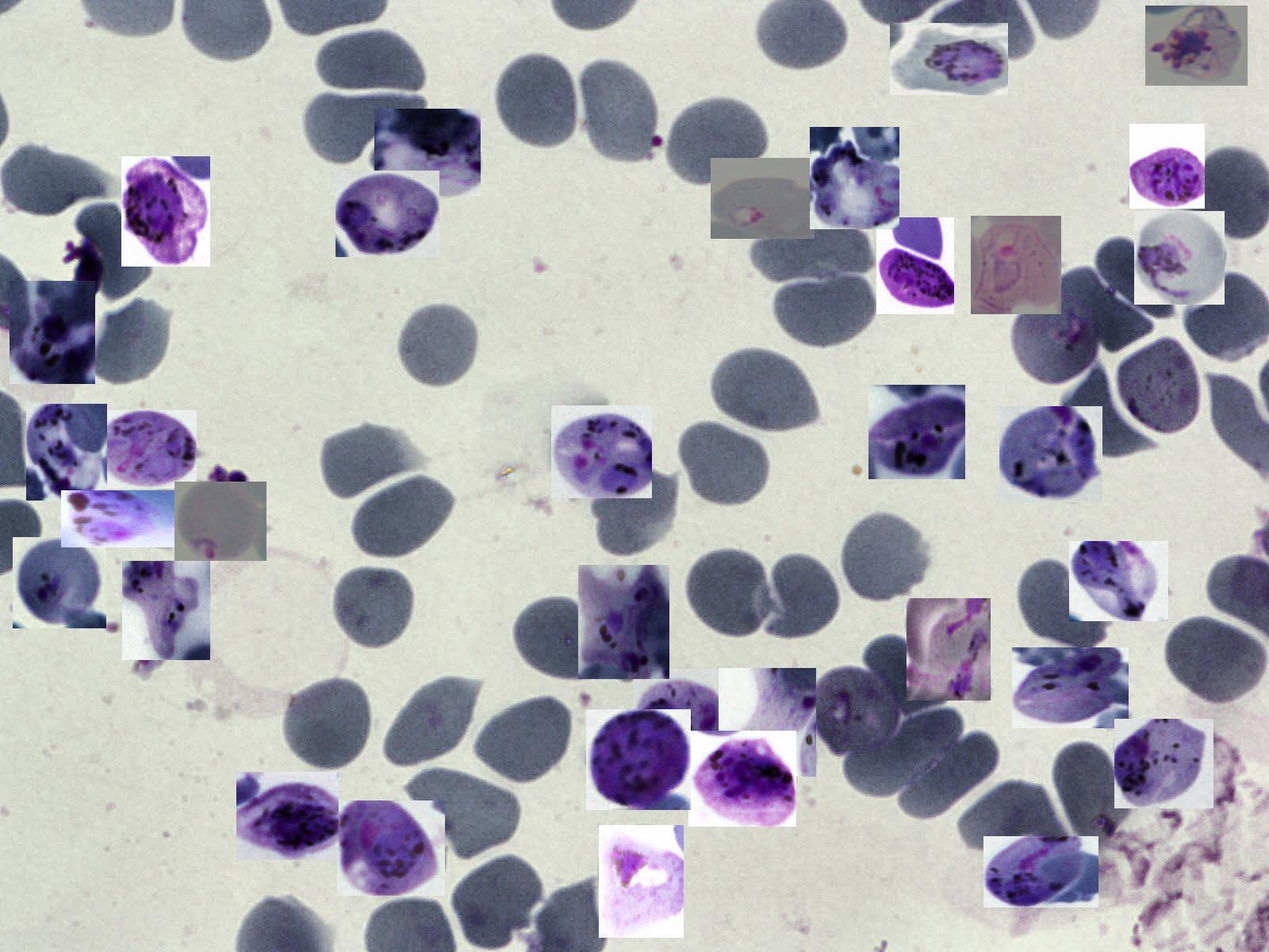Infected: (586, 709, 691, 810), (719, 668, 816, 777), (578, 565, 669, 679), (689, 731, 797, 827), (338, 800, 445, 896), (999, 406, 1102, 502), (121, 156, 210, 267), (599, 825, 684, 938), (808, 664, 906, 762), (1012, 647, 1129, 728), (551, 405, 652, 498), (374, 109, 481, 196), (1115, 336, 1203, 440), (868, 385, 965, 479), (1010, 290, 1102, 389), (810, 127, 899, 229), (236, 772, 339, 860), (634, 669, 723, 770), (335, 171, 439, 257), (971, 216, 1061, 314), (1114, 719, 1213, 808), (10, 281, 95, 384), (122, 561, 210, 660), (907, 599, 991, 701), (1134, 211, 1225, 305), (890, 23, 1008, 95), (13, 537, 106, 628), (711, 158, 815, 239), (983, 836, 1098, 908), (1145, 6, 1248, 86), (1069, 541, 1168, 621), (26, 404, 107, 501), (100, 410, 197, 489), (876, 217, 954, 314), (174, 482, 266, 561), (1129, 124, 1205, 209), (61, 491, 174, 548)
Uninfected: (842, 707, 967, 798), (410, 764, 522, 862), (710, 345, 822, 435), (1058, 360, 1159, 459), (664, 94, 771, 187), (472, 692, 577, 785), (513, 590, 615, 685), (280, 673, 375, 774), (897, 730, 1001, 820), (751, 209, 879, 282), (577, 54, 661, 165), (381, 672, 477, 769), (1015, 556, 1110, 654), (493, 50, 582, 154), (838, 508, 932, 606), (677, 416, 773, 511), (450, 851, 546, 946), (682, 545, 776, 642), (771, 265, 878, 350), (349, 473, 454, 559), (63, 204, 148, 309), (1052, 741, 1133, 849), (750, 555, 849, 643), (304, 92, 426, 163), (590, 464, 680, 560), (316, 420, 419, 503), (1056, 266, 1154, 352), (957, 781, 1071, 854), (1, 144, 113, 217), (329, 562, 418, 651), (395, 300, 481, 392), (93, 298, 174, 394), (315, 27, 427, 94), (861, 633, 947, 716), (1095, 236, 1179, 318)
